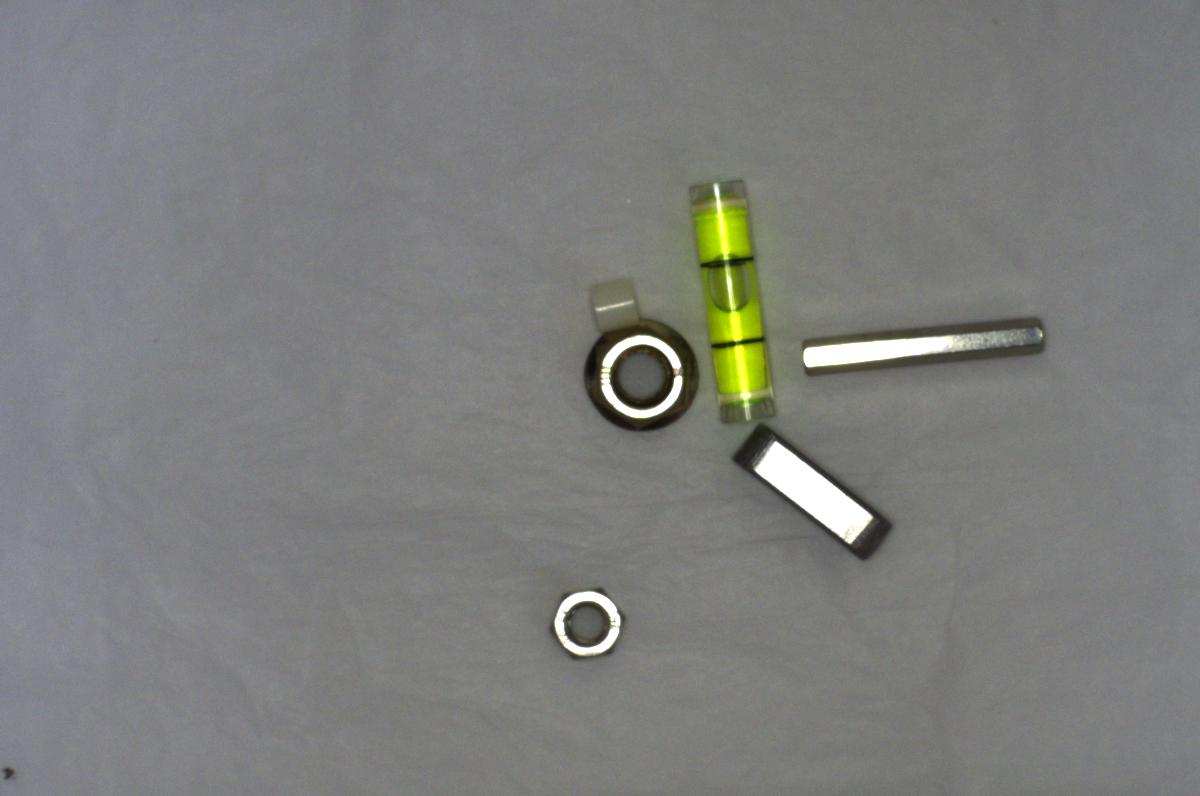Double hexagonal column: (789, 301, 1067, 396)
Flange nut: (576, 314, 708, 442)
Hexagon nut: (537, 573, 639, 669)
Horizontal bubble: (678, 165, 776, 432)
Keybar: (734, 423, 889, 562)
Plastic cushion pillar: (575, 262, 648, 333)
